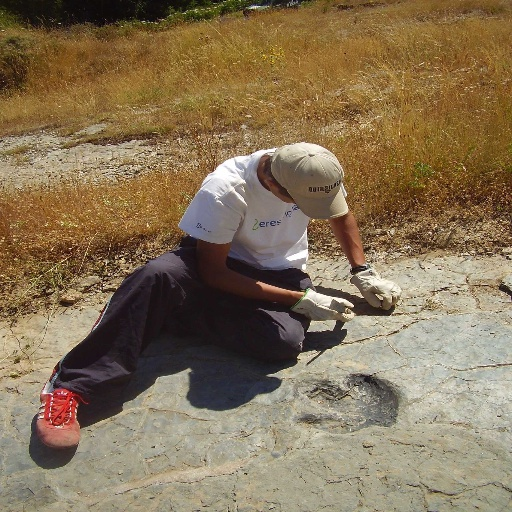hand: (299, 291, 359, 321), (359, 277, 400, 310)
